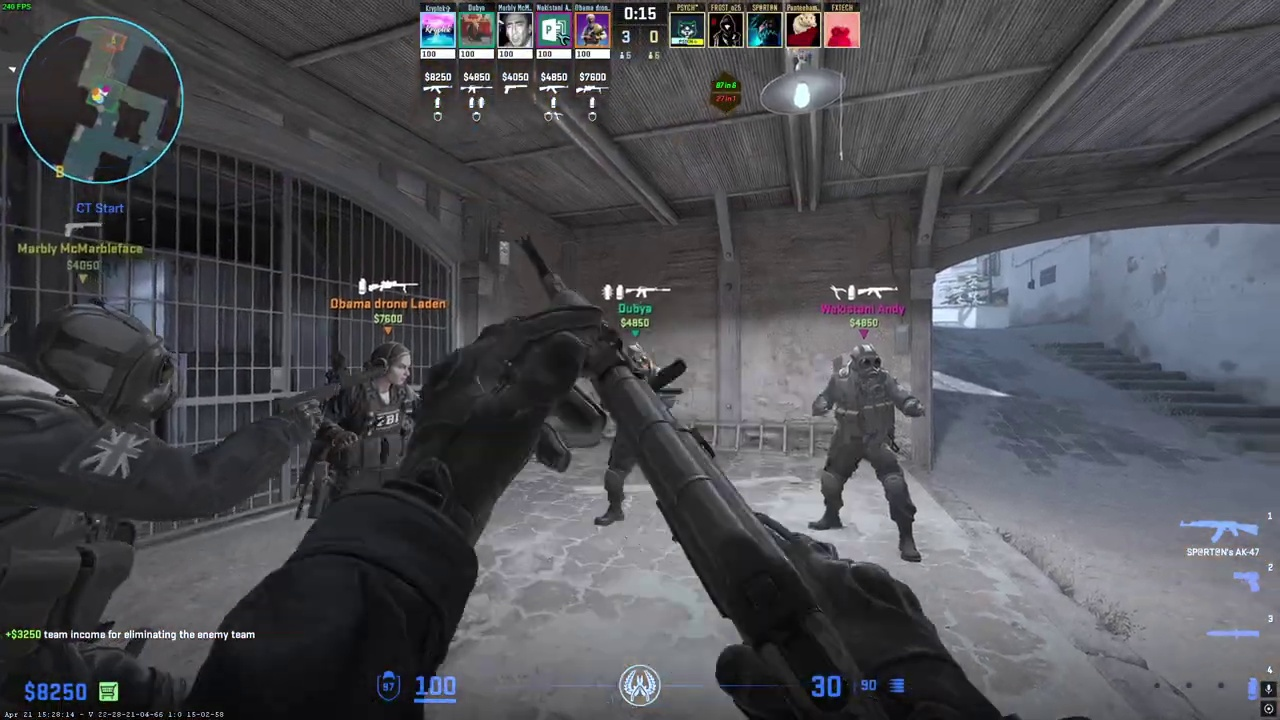CT: (0, 300, 229, 720), (808, 343, 926, 562), (312, 341, 425, 509), (594, 342, 683, 526)
